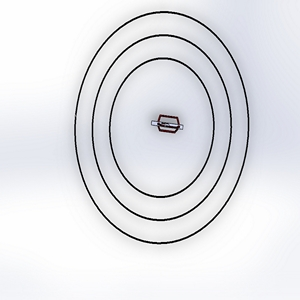circle: (71, 6, 254, 248)
submarine: (148, 106, 185, 143)
